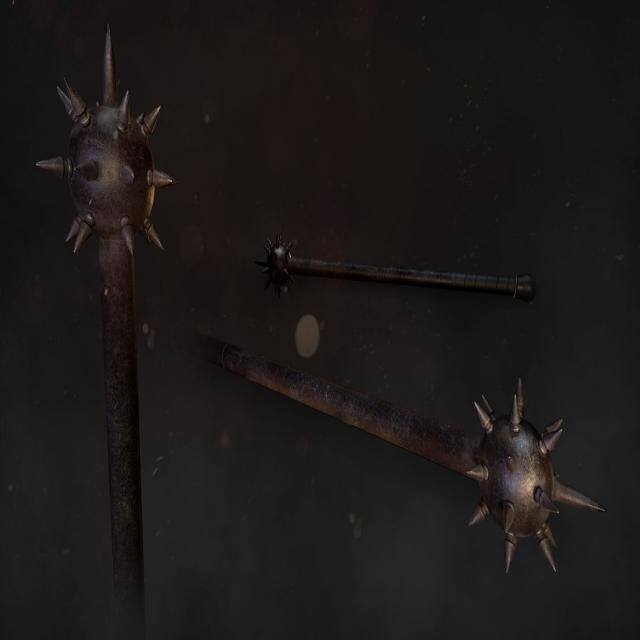mace: (196, 333, 608, 581), (35, 24, 176, 640), (257, 232, 536, 305)
